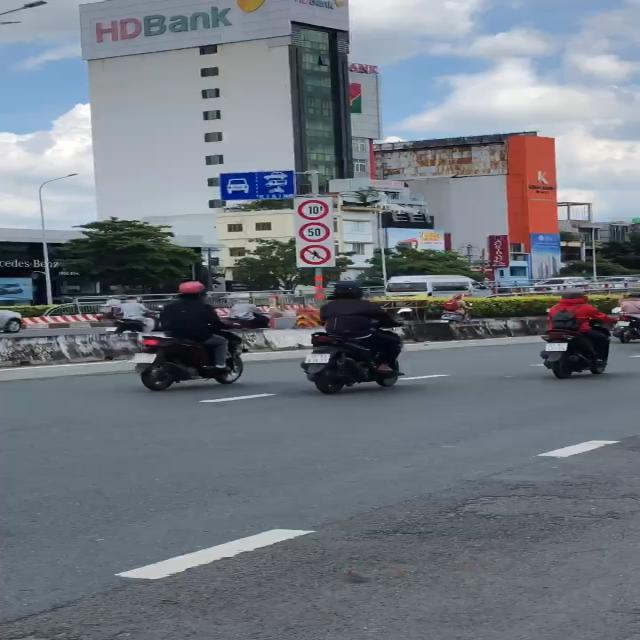Bien bao cam nguoi di bo: (298, 244, 334, 266)
Bien bao toc do toi da cho phep: (297, 222, 332, 243)
